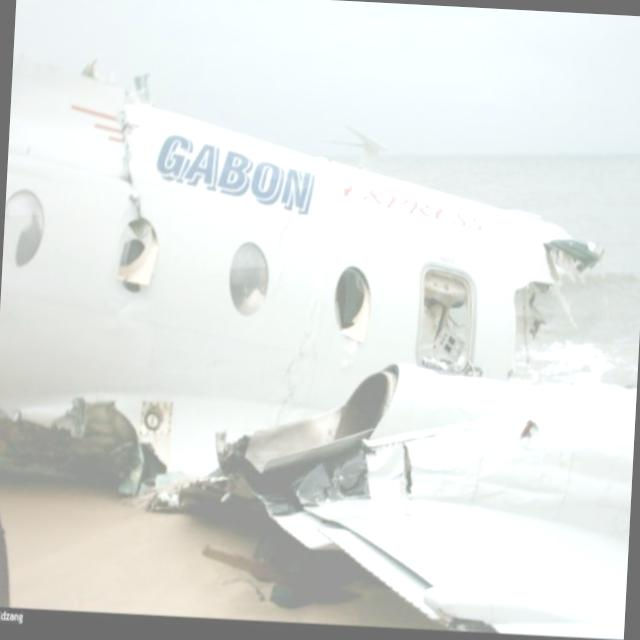crack: (272, 319, 317, 432), (110, 102, 150, 220), (395, 440, 423, 498)
